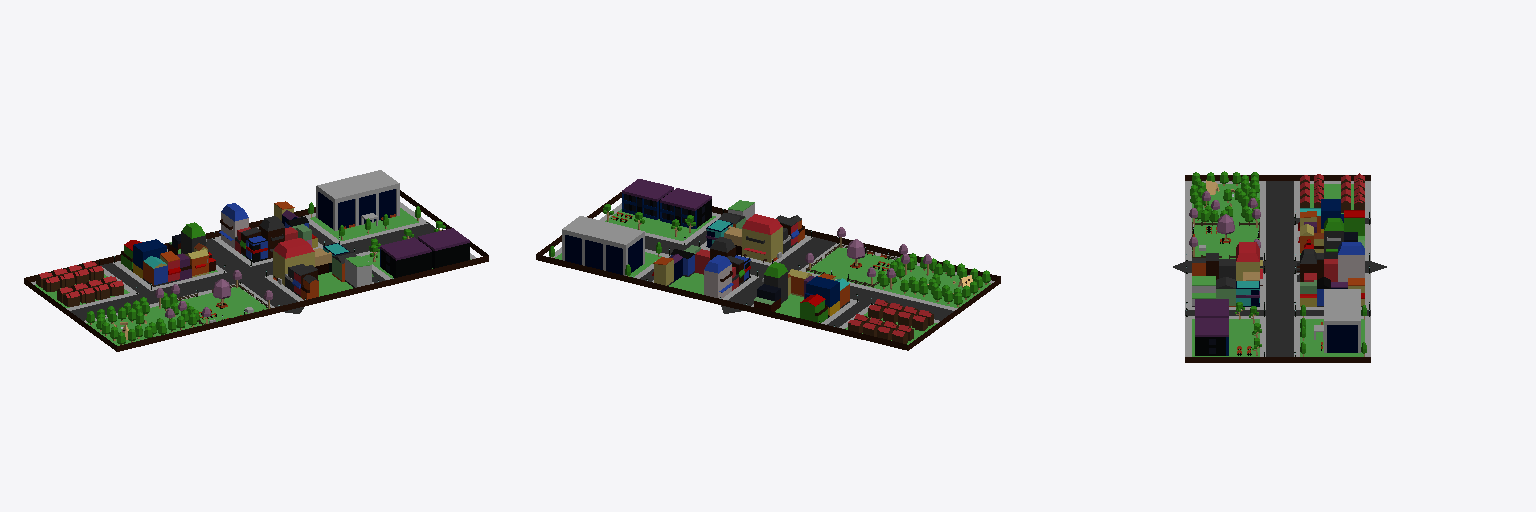
3 renders of one model, left to right at view 1: azimuth 30°, elevation 25°; view 2: azimuth 150°, elevation 25°; view 3: azimuth 270°, elevation 25°, orthographic.
Visible parts, largest first — view 1: Plane_022_Plane_061_Plane.022_Plane.061; view 2: Plane_022_Plane_061_Plane.022_Plane.061; view 3: Plane_022_Plane_061_Plane.022_Plane.061.
Boxes of the visible parts, x1,y1,x2,y2 form: Plane_022_Plane_061_Plane.022_Plane.061: [24, 170, 488, 351]; Plane_022_Plane_061_Plane.022_Plane.061: [536, 179, 1000, 350]; Plane_022_Plane_061_Plane.022_Plane.061: [1173, 171, 1386, 362].
Bounding box in the file's own units: 127 × 12.5 × 64.
Materials: 60 (1 with a texture image).